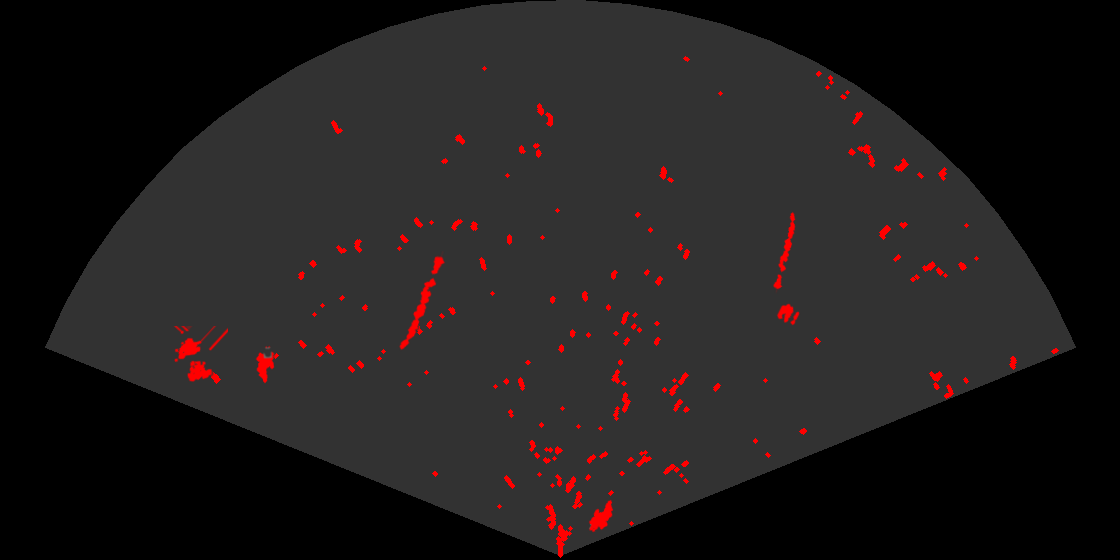AUV: (587, 498, 615, 534), (254, 344, 276, 385)
ball: (775, 302, 801, 327)
cage: (172, 326, 228, 384)
chain: (398, 251, 447, 352), (772, 210, 797, 294)
